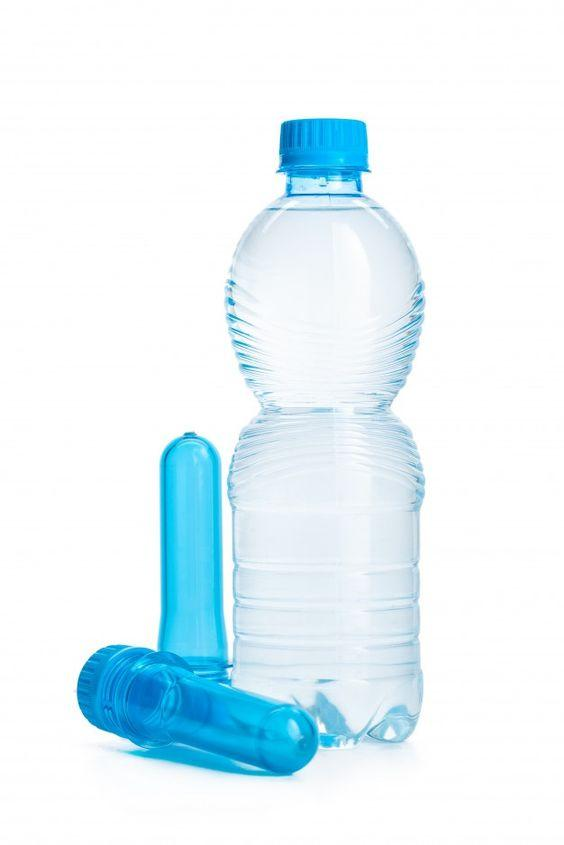HDPE: (244, 91, 395, 189)
PETE: (197, 197, 450, 747)
